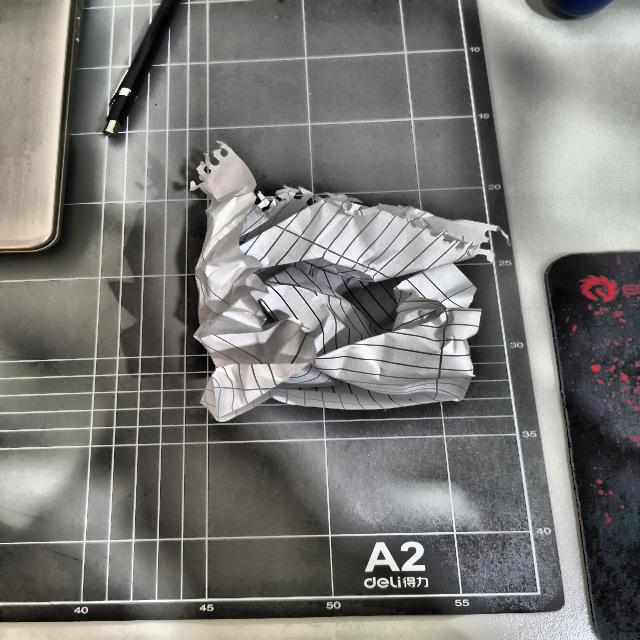Paper: (185, 148, 485, 426)
